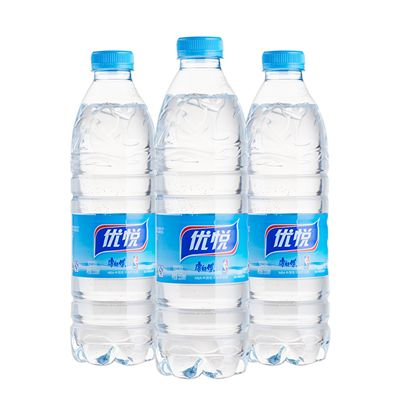amwater: (151, 28, 254, 387), (237, 37, 332, 372), (67, 43, 162, 367)
